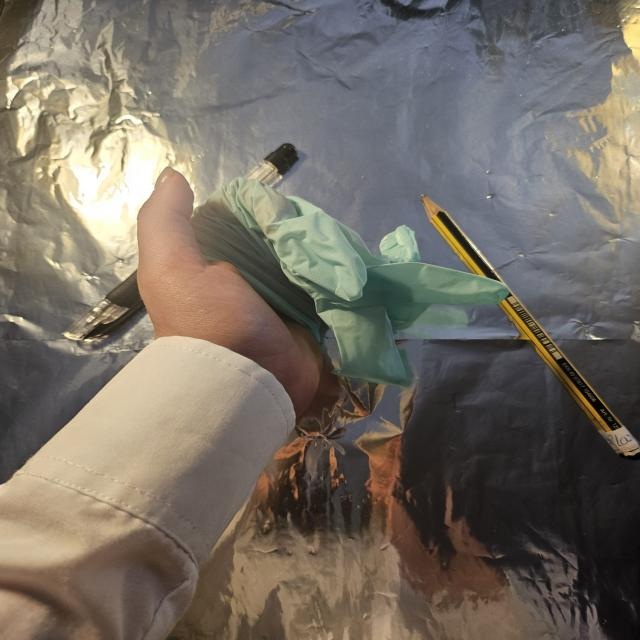glove_partial: (135, 164, 510, 420)
